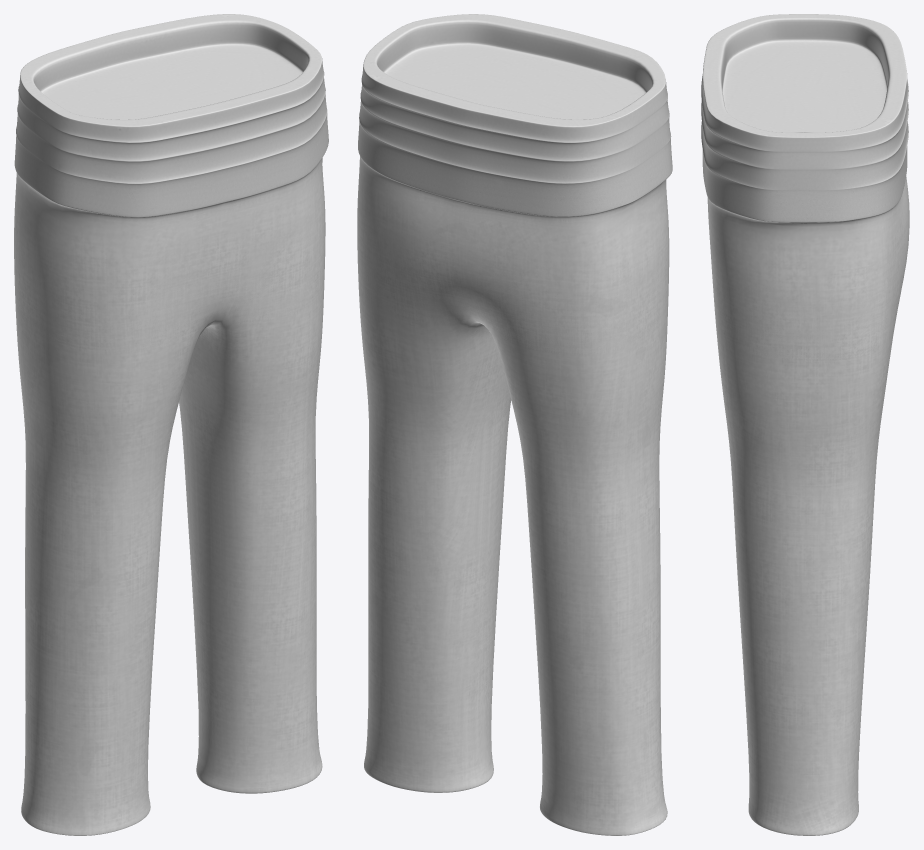
The model's file is FullTuxPants_clean.fbx.
The picture shows the model from 3 angles, left to right: view 1: azimuth 30°, elevation 25°; view 2: azimuth 150°, elevation 25°; view 3: azimuth 270°, elevation 25°; orthographic projection. The views are drawn at different scales.
Parts seen in each view (by area): view 1: pCylinder53; view 2: pCylinder53; view 3: pCylinder53.
Boxes of the visible parts, x1,y1,x2,y2 form: pCylinder53: (14, 14, 328, 835); pCylinder53: (357, 14, 672, 835); pCylinder53: (701, 14, 909, 835).
Bounding box in the file's own units: 4.9 × 11.73 × 3.2.
Materials: 1 (1 with a texture image).
